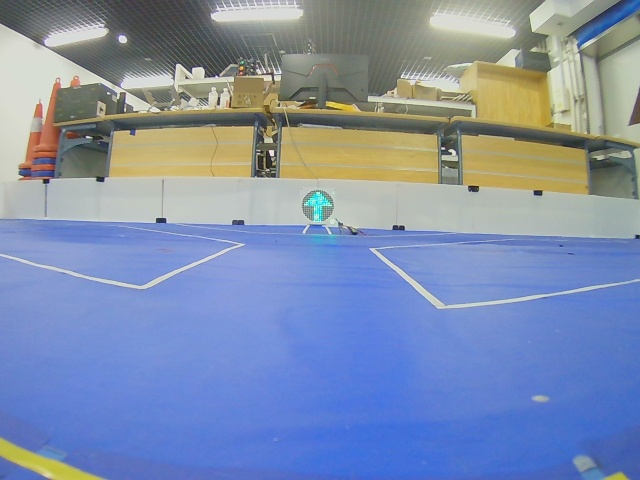straight_green: (302, 190, 334, 223)
